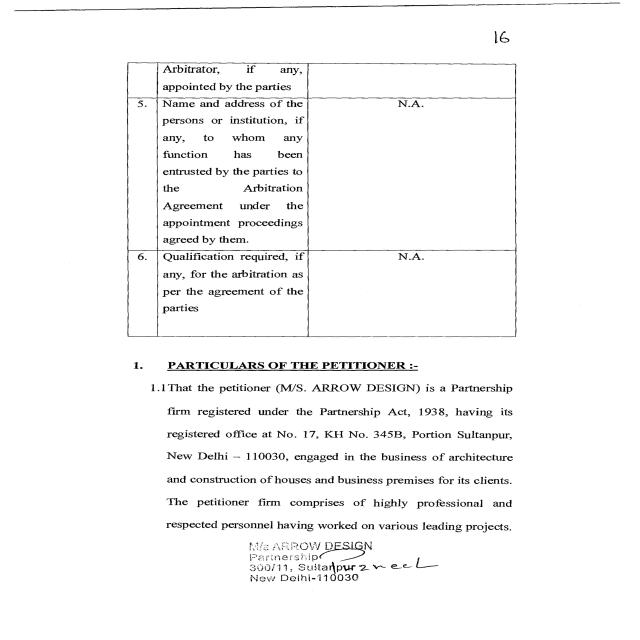page-number: (377, 0, 636, 58)
